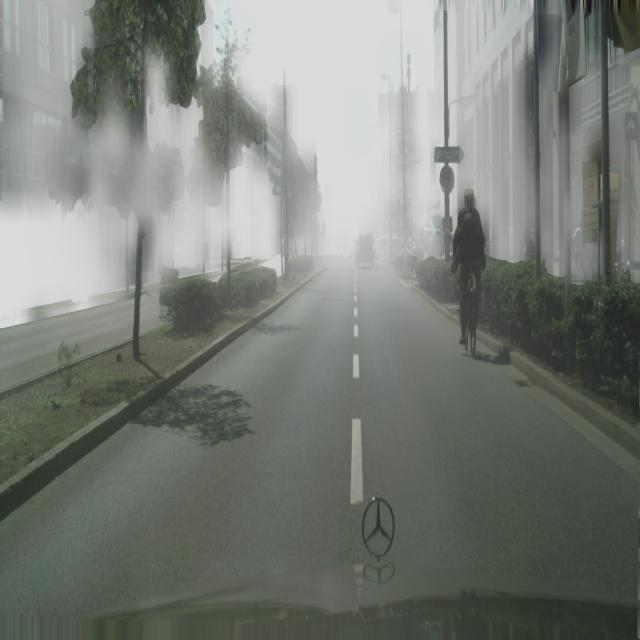car: (450, 187, 489, 356)
truck: (354, 232, 375, 269), (375, 236, 389, 258)
